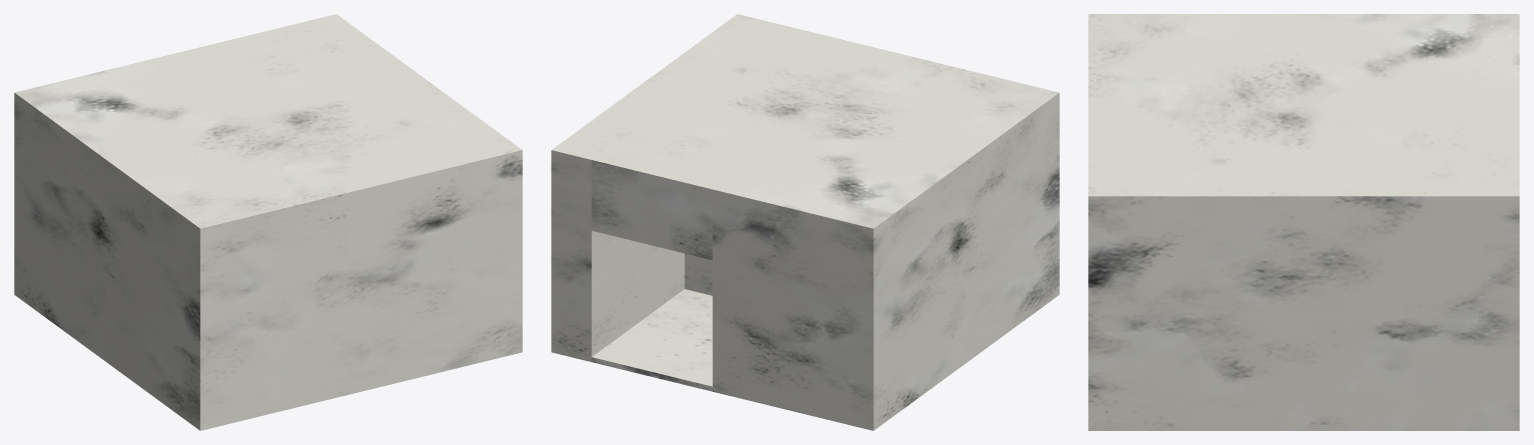
Rendered from factory.glb.
3 views of the same model, side by side, from view 1: azimuth 30°, elevation 25°; view 2: azimuth 150°, elevation 25°; view 3: azimuth 270°, elevation 25° (orthographic). The views are drawn at different scales.
Parts seen in each view (by area): view 1: Cube; view 2: Cube; view 3: Cube.
Boxes of the visible parts, left/top/right/bottom form: Cube: left=14, top=14, right=522, bottom=430; Cube: left=551, top=14, right=1059, bottom=430; Cube: left=1088, top=14, right=1519, bottom=430.
Bounding box in the file's own units: 20 × 12 × 20.
Materials: 1 (1 with a texture image).
